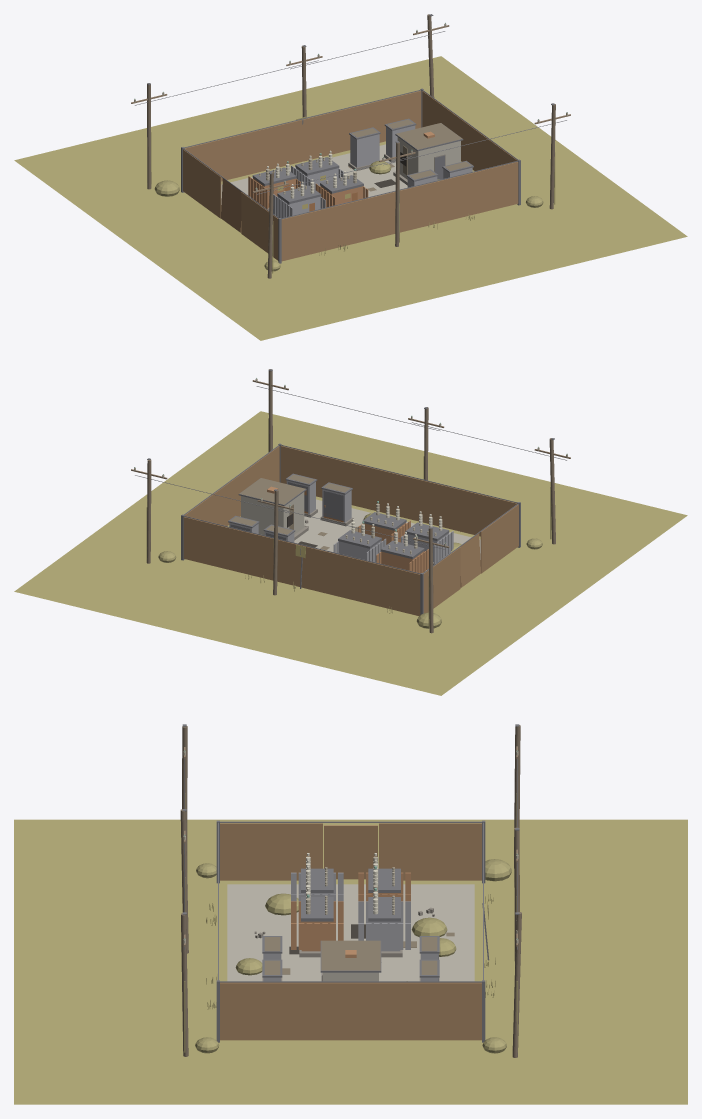
Rendered from power_substation.glb.
3 views of the same model, one above another, from view 1: azimuth 30°, elevation 25°; view 2: azimuth 150°, elevation 25°; view 3: azimuth 270°, elevation 25° (orthographic). The views are drawn at different scales.
Parts seen in each view (by area): view 1: Ground, FenceN, FenceS, FenceE, FenceW2, FenceW1, ConcretePad, CtrlBuilding_Walls, CtrlBuilding_RoofDirt, FenceGate, SG3_Body; view 2: Ground, FenceS, FenceN, FenceE, FenceW1, ConcretePad, CtrlBuilding_Walls, FenceW2, CtrlBuilding_RoofDirt, FenceGate, SG1_Door; view 3: Ground, FenceE, ConcretePad, FenceW2, FenceW1, FenceGate, CtrlBuilding_RoofDirt, Pole5_Pole, Pole2_Pole, T2_Lid, T4_Lid, Pole1_Pole (+5 smaller).
Part boxes in pixels (x1,y1,x2,y2): Ground: [14, 56, 687, 340]; FenceN: [281, 162, 518, 261]; FenceS: [184, 90, 421, 181]; FenceE: [422, 91, 517, 170]; FenceW2: [183, 149, 221, 218]; FenceW1: [241, 192, 278, 260]; ConcretePad: [221, 144, 407, 215]; CtrlBuilding_Walls: [397, 137, 460, 179]; CtrlBuilding_RoofDirt: [396, 123, 462, 149]; FenceGate: [221, 178, 241, 232]; SG3_Body: [350, 134, 379, 167]; Ground: [14, 411, 687, 695]; FenceS: [183, 517, 420, 615]; FenceN: [280, 445, 517, 536]; FenceE: [184, 446, 279, 525]; FenceW1: [480, 504, 518, 573]; ConcretePad: [294, 499, 480, 570]; CtrlBuilding_Walls: [241, 492, 304, 535]; FenceW2: [423, 547, 460, 613]; CtrlBuilding_RoofDirt: [239, 478, 305, 504]; FenceGate: [460, 533, 480, 587]; SG1_Door: [323, 491, 343, 520]; Ground: [14, 819, 687, 1104]; FenceE: [220, 982, 481, 1040]; ConcretePad: [227, 884, 474, 981]; FenceW2: [379, 823, 481, 880]; FenceW1: [220, 823, 322, 880]; FenceGate: [324, 825, 377, 879]; CtrlBuilding_RoofDirt: [321, 940, 380, 970]; Pole5_Pole: [512, 912, 521, 1057]; Pole2_Pole: [181, 913, 188, 1056]; T2_Lid: [368, 897, 400, 921]; T4_Lid: [301, 897, 333, 921]; Pole1_Pole: [180, 809, 188, 953].
Bounding box in the file's own units: 30 × 7.31 × 30.
